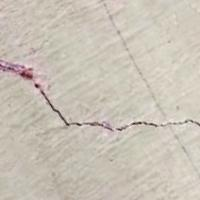crack: (0, 48, 199, 155)
